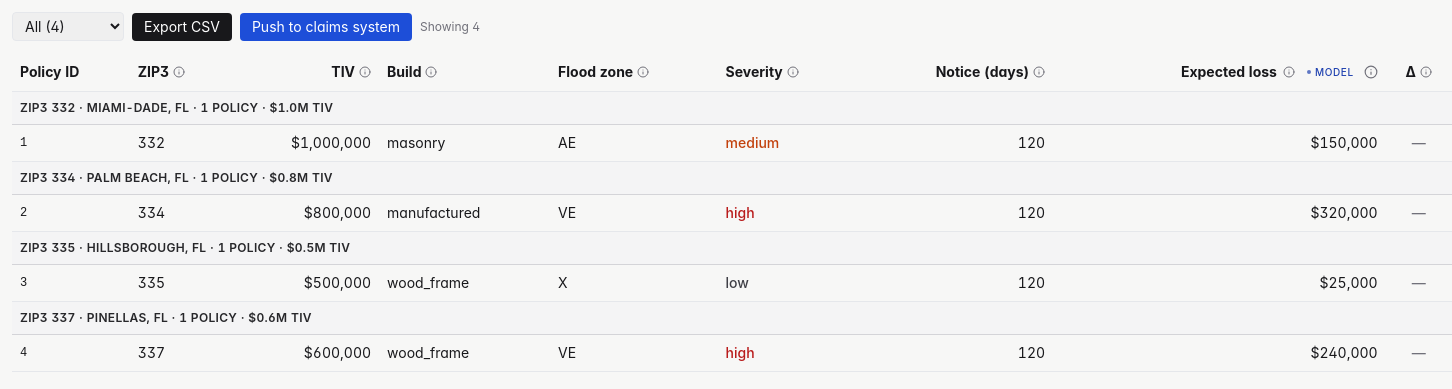
Scenario: ClaimsTable › severity filter narrows rows to the chosen tier
The width and height of the screenshot is (1452, 389).
Expected: the text with test id "filtered-count" reads "Showing 4", [420, 18, 480, 34]
Select "High (2)" in the dropdown named "severity-filter" at (68, 26), box [12, 12, 124, 41]
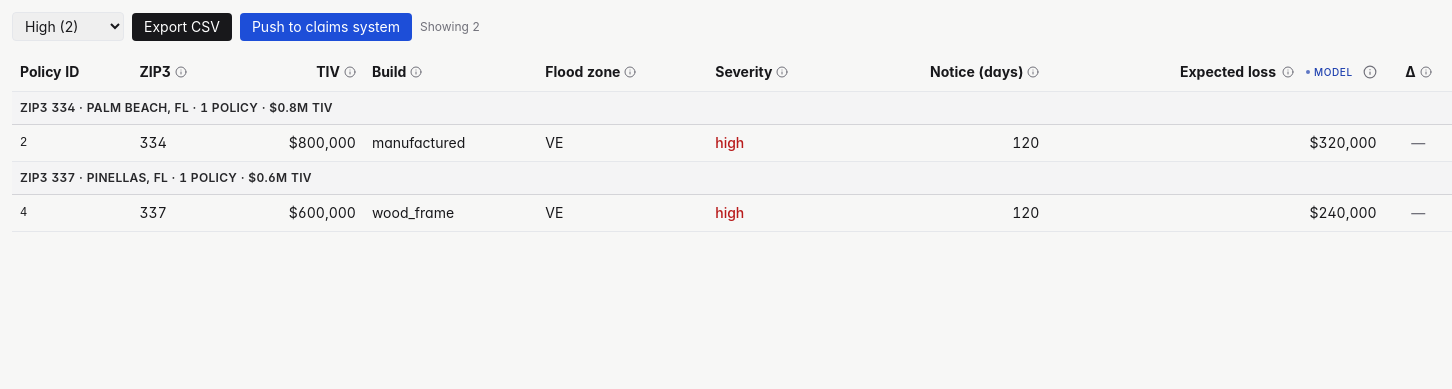
Result: the text with test id "filtered-count" reads "Showing 2" at [420, 18, 480, 34]
